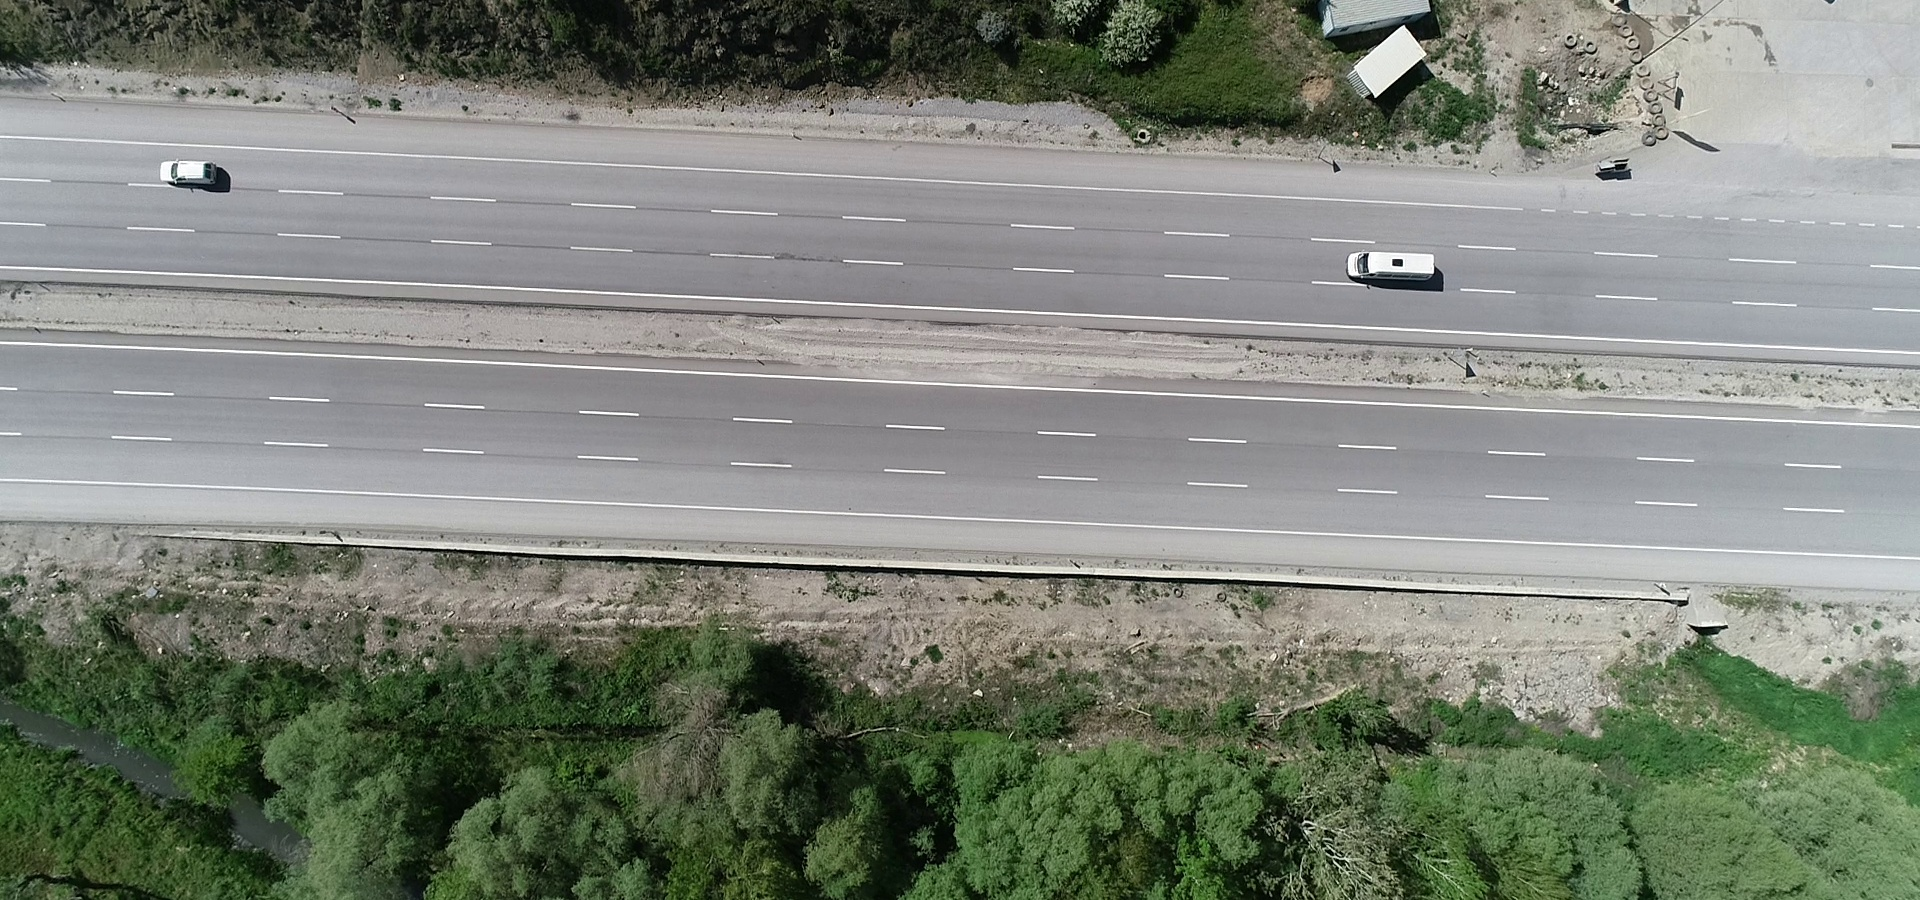arac: (1342, 249, 1441, 290), (151, 149, 233, 189)
